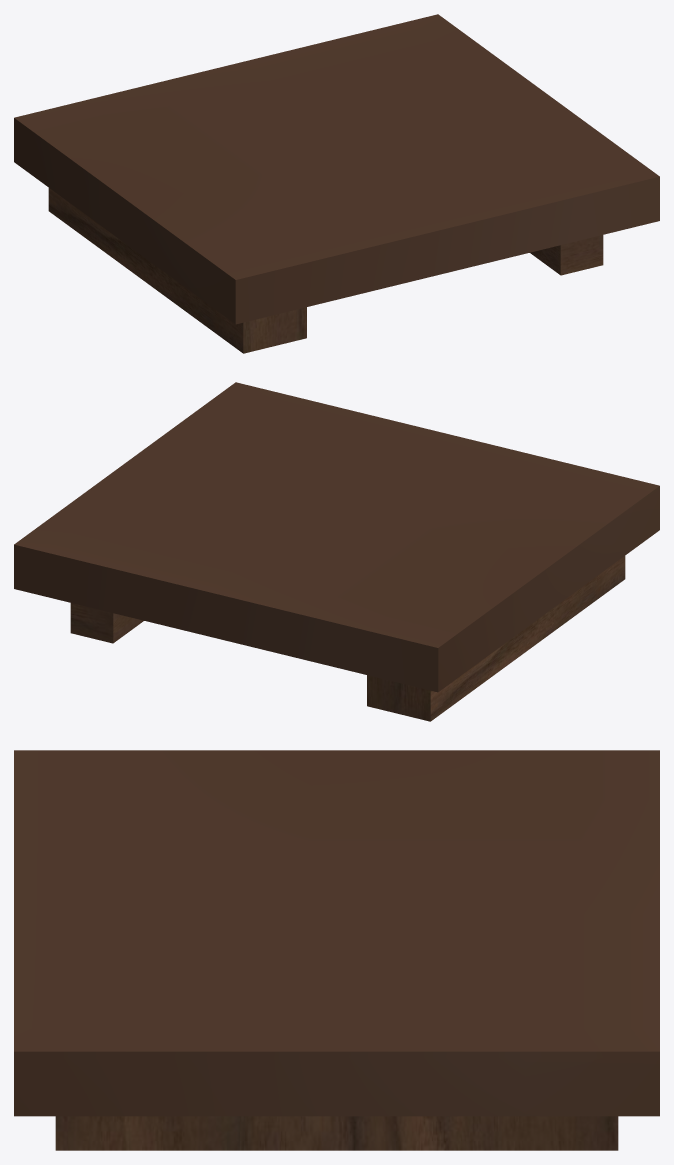
File: tabla 1.obj
3 renders of one model, top to bottom at view 1: azimuth 30°, elevation 25°; view 2: azimuth 150°, elevation 25°; view 3: azimuth 270°, elevation 25°, orthographic. The views are drawn at different scales.
Bounding box in the file's own units: 6.06 × 1.21 × 5.49.
Materials: 1 (1 with a texture image).
